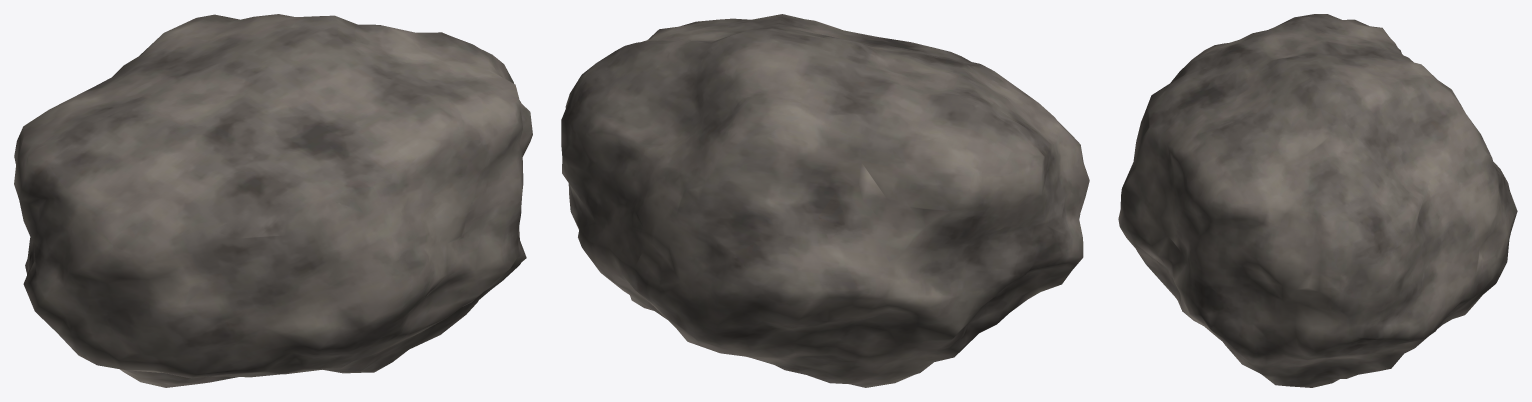
Rendered from rock.glb.
The picture shows the model from 3 angles, left to right: view 1: azimuth 30°, elevation 25°; view 2: azimuth 150°, elevation 25°; view 3: azimuth 270°, elevation 25°; orthographic projection. The views are drawn at different scales.
Parts seen in each view (by area): view 1: ProofRock; view 2: ProofRock; view 3: ProofRock.
Part boxes in pixels (x1,y1,x2,y2): ProofRock: (14, 14, 532, 387); ProofRock: (561, 14, 1089, 387); ProofRock: (1118, 14, 1517, 387).
Size of the model in its own units: 2.1 by 1.3 by 1.64.
1 material, 1 textured.
